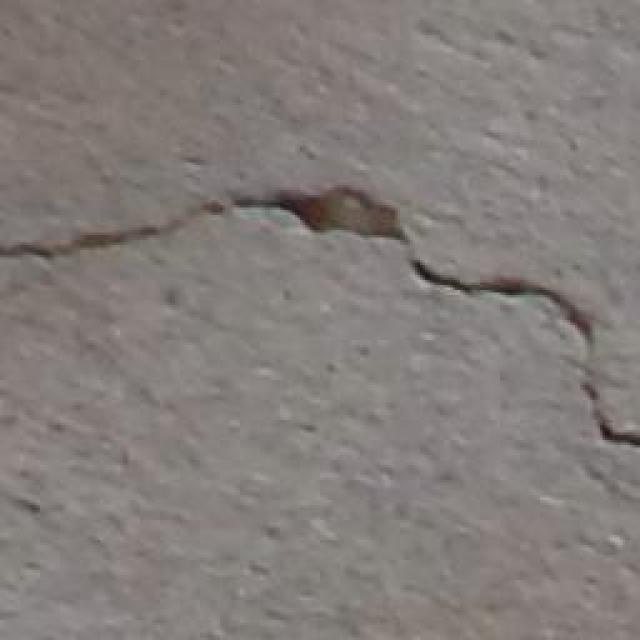concrete-crack: (0, 180, 640, 450)
